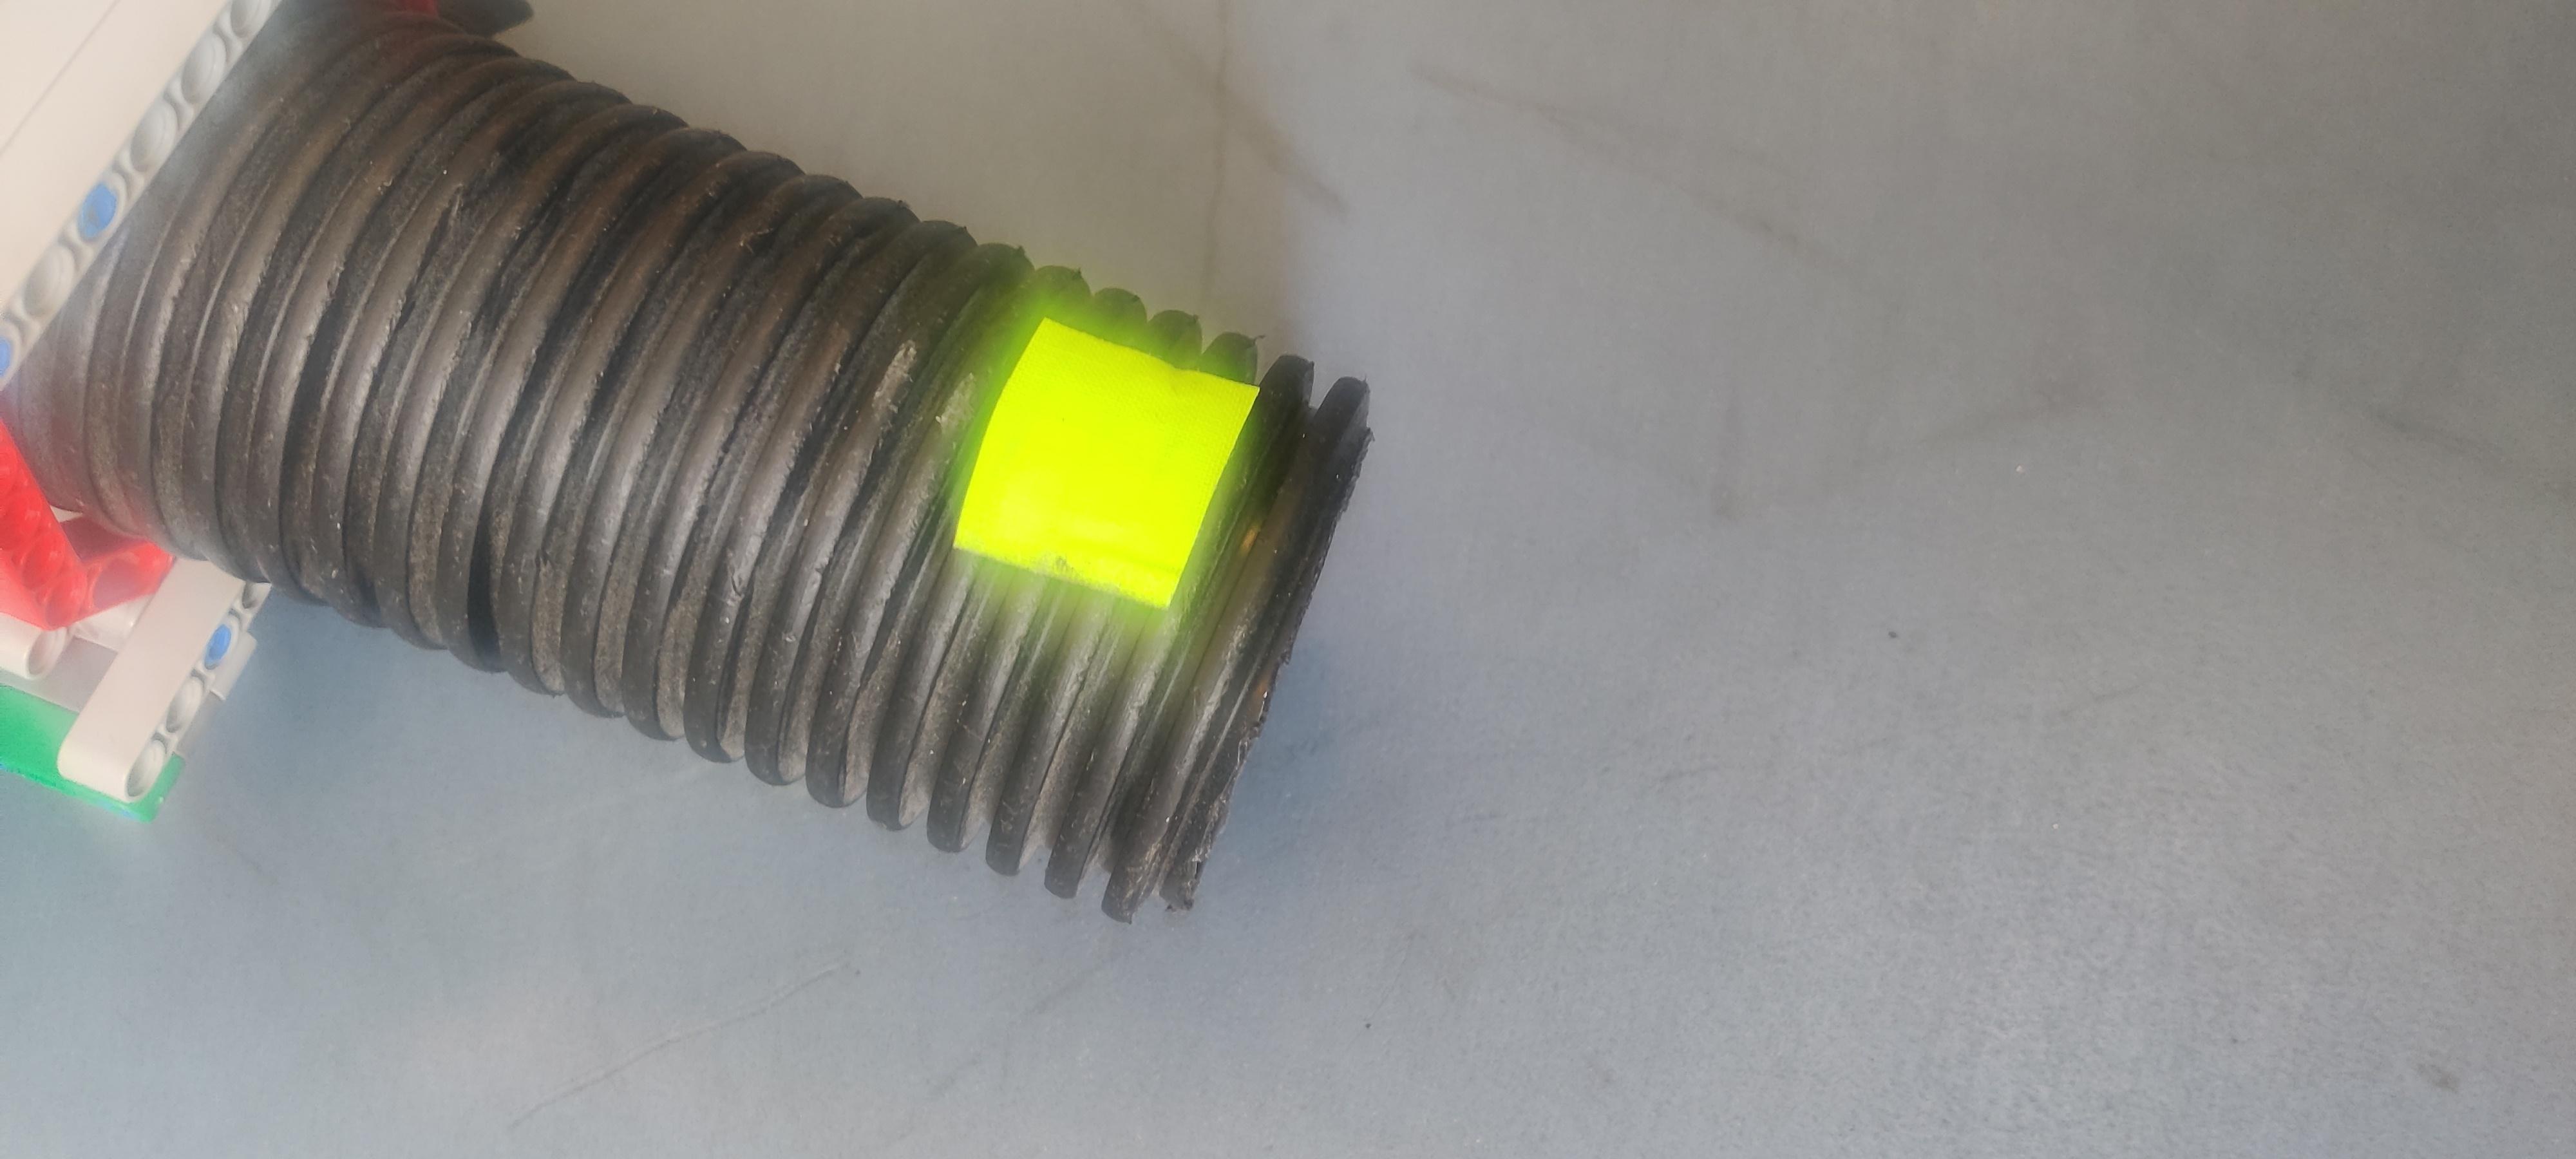robot-front: (205, 48, 1355, 906)
